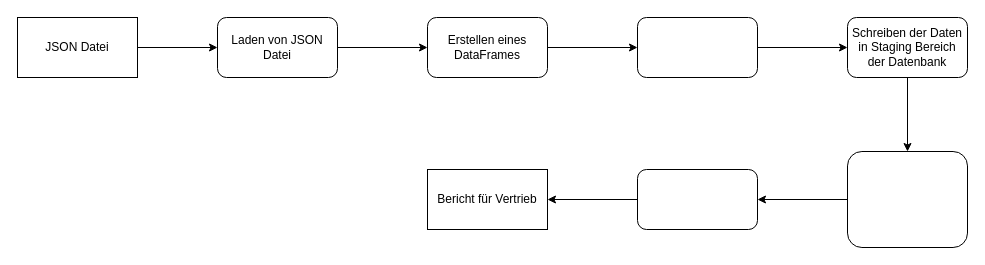
Some shapes in this 985 by 265 pixel diagram are drawn without their labels. The box of each missing label's shape, as (x1, y1, x2, y2) in pixels:
Erstellen einer View mit Umsatzzahlen: (636, 168, 758, 230)
Insert und Update Skripte die Daten aus Staging in die Business Area schreiben: (846, 150, 968, 248)
Transformation der Daten: (636, 16, 758, 78)
